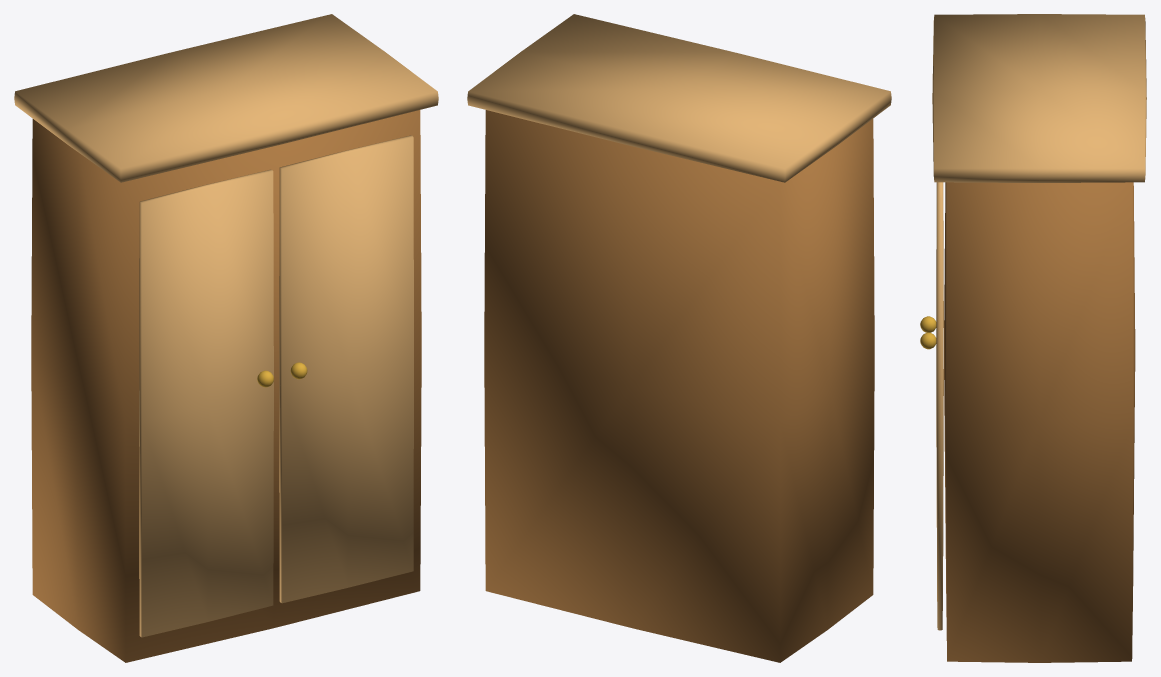
The model's file is school_cabinet.glb.
3 views of the same model, side by side, from view 1: azimuth 30°, elevation 25°; view 2: azimuth 150°, elevation 25°; view 3: azimuth 270°, elevation 25° (orthographic).
Parts seen in each view (by area): view 1: root; view 2: root; view 3: root.
Boxes of the visible parts, x1,y1,x2,y2 form: root: (14, 14, 438, 662); root: (467, 14, 891, 662); root: (920, 14, 1146, 662).
Bounding box in the file's own units: 0.96 × 1.45 × 0.592.
